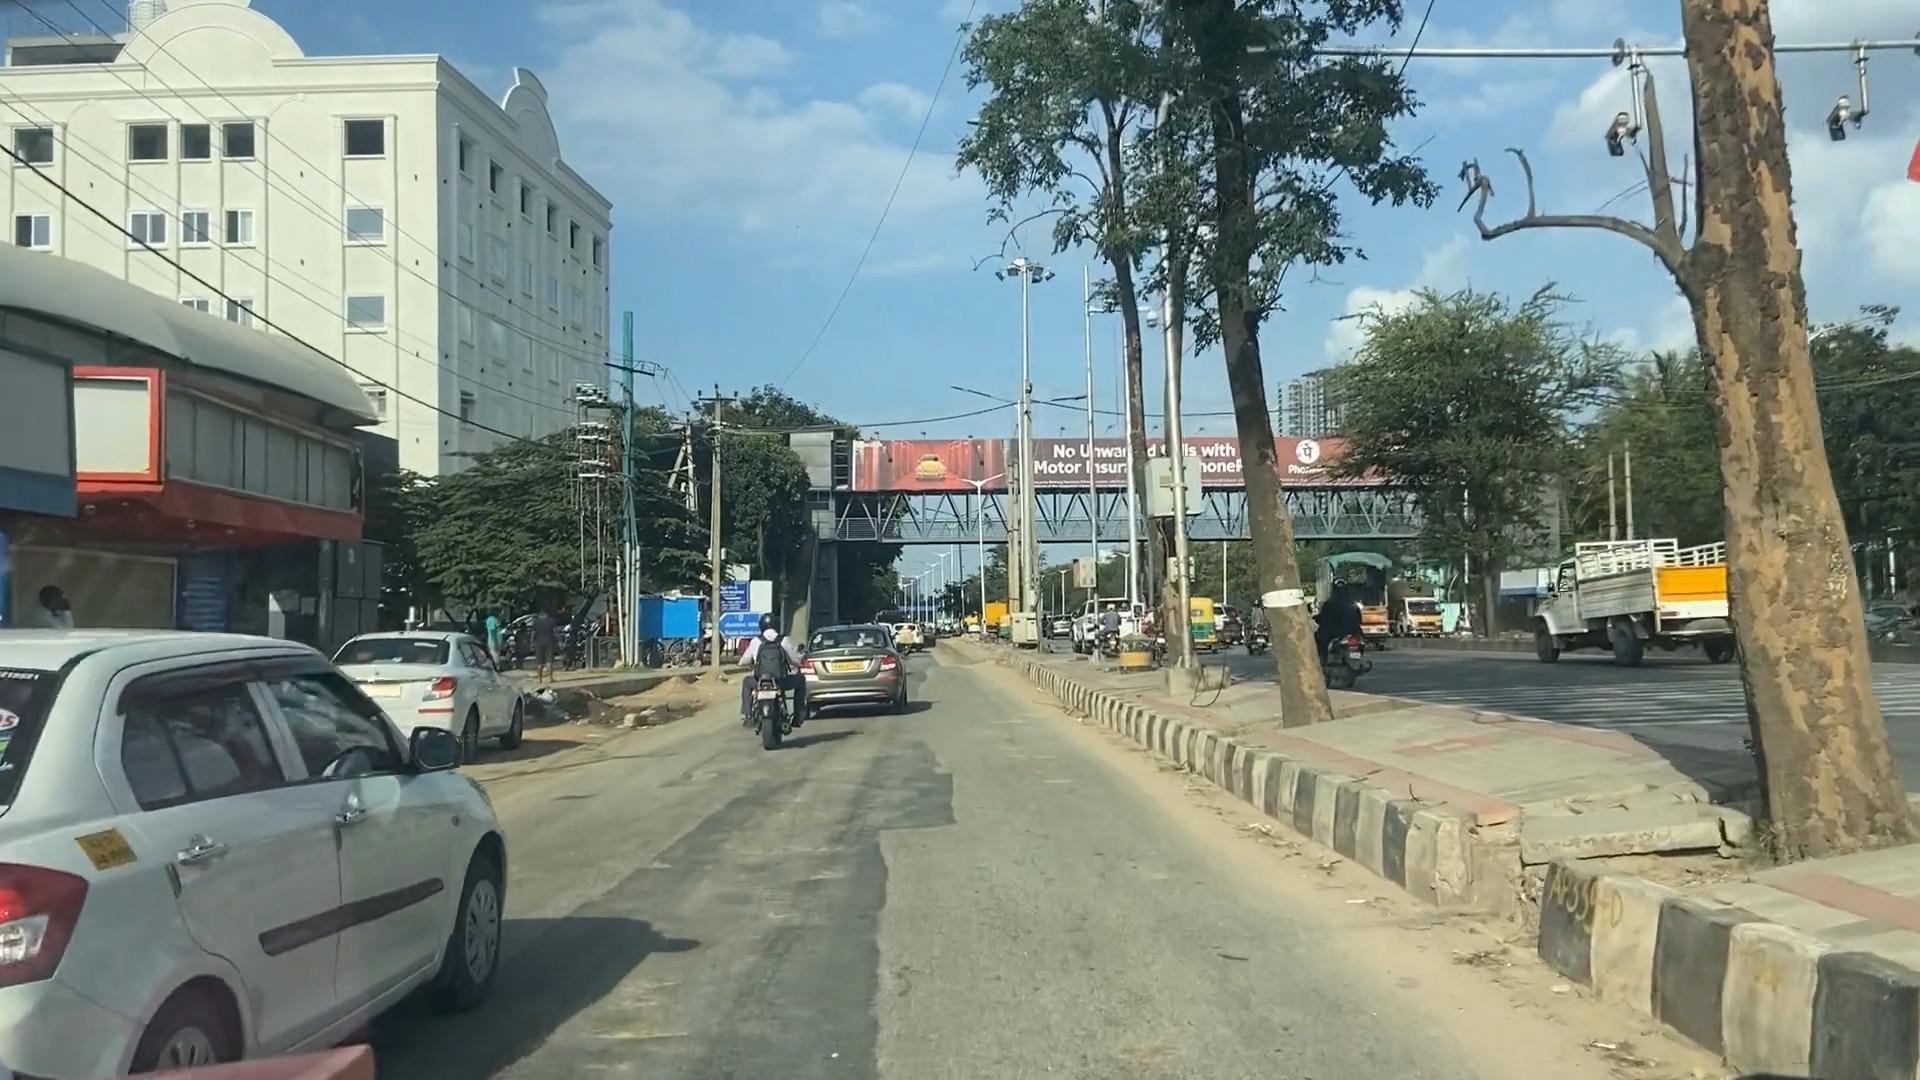LMV: (0, 633, 498, 1072), (746, 603, 798, 754)
UnsurfacedRoad: (481, 877, 947, 1046), (658, 781, 965, 857)
